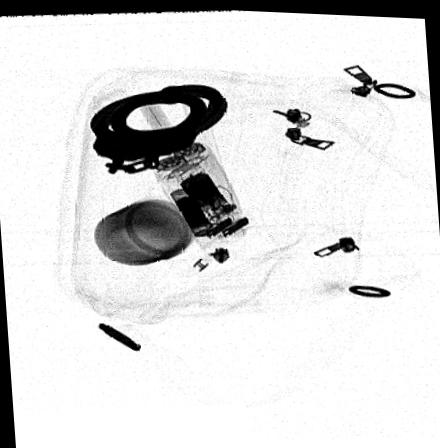HandCuffs: (90, 82, 226, 172)
